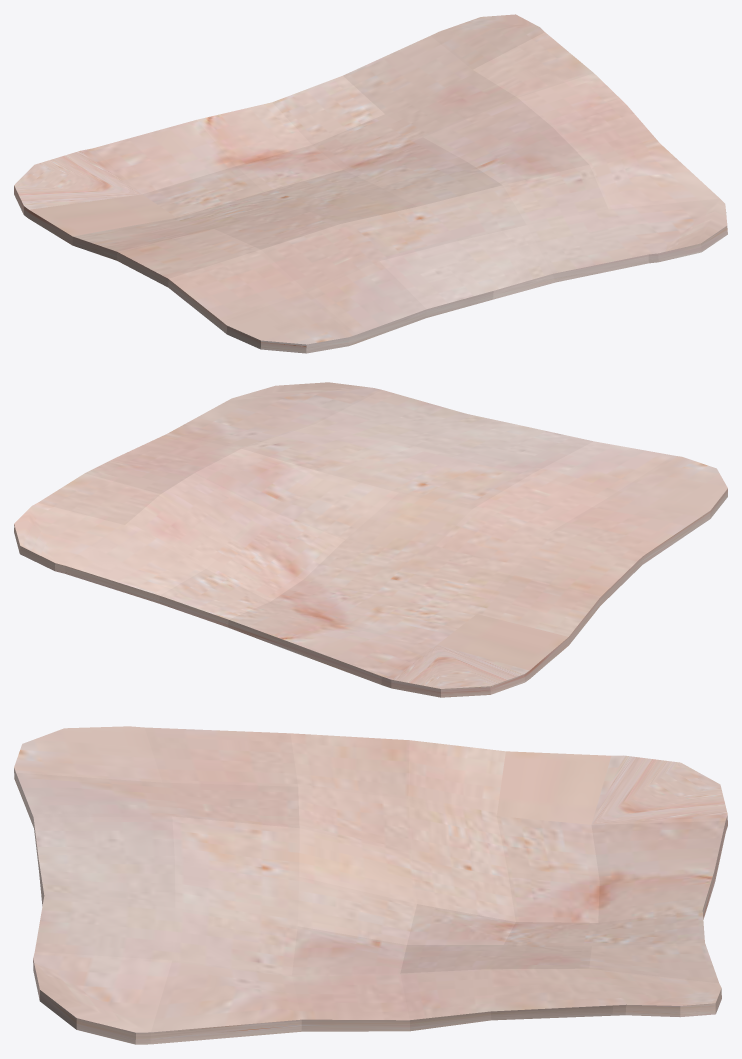
Rendered from Turkey_Ham.fbx.
The picture shows the model from 3 angles, top to bottom: view 1: azimuth 30°, elevation 25°; view 2: azimuth 150°, elevation 25°; view 3: azimuth 270°, elevation 25°; orthographic projection. The views are drawn at different scales.
Parts seen in each view (by area): view 1: Cube; view 2: Cube; view 3: Cube.
Part boxes in pixels (x1,y1,x2,y2): Cube: (14, 14, 727, 353); Cube: (14, 382, 727, 697); Cube: (14, 726, 727, 1044).
Bounding box in the file's own units: 166 × 19.98 × 160.
Materials: 1 (1 with a texture image).
